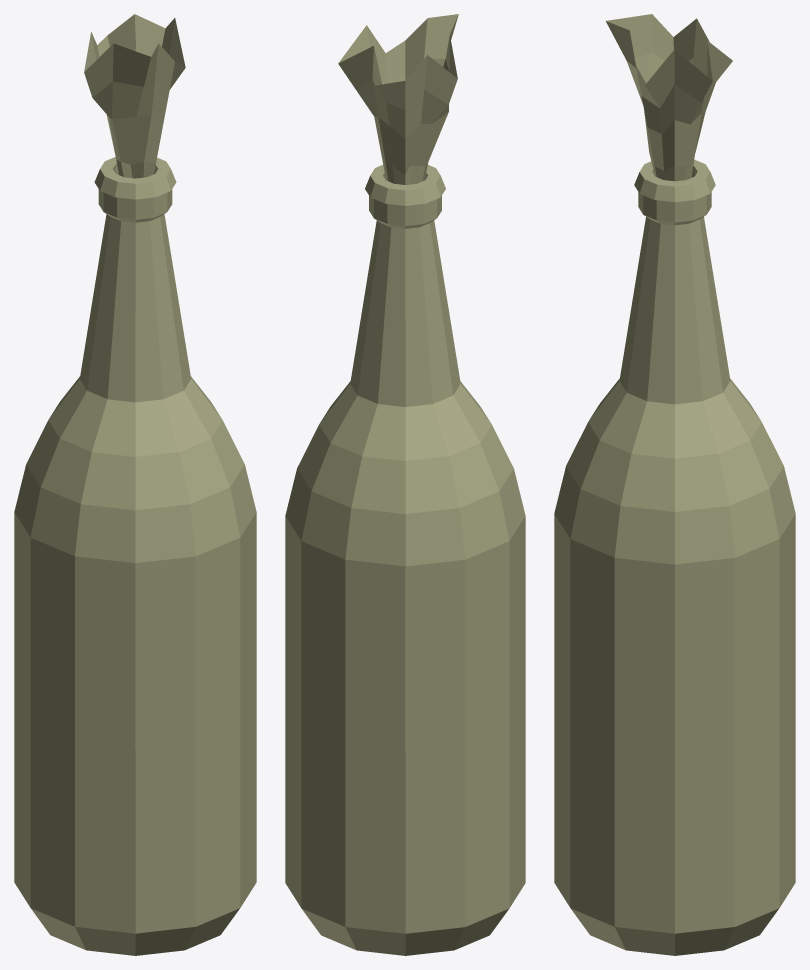
Rendered from molotov_lp.fbx.
3 views of the same model, side by side, from view 1: azimuth 30°, elevation 25°; view 2: azimuth 150°, elevation 25°; view 3: azimuth 270°, elevation 25° (orthographic).
Visible parts, largest first — view 1: Cylinder.003; view 2: Cylinder.003; view 3: Cylinder.003.
Part boxes in pixels (x1=…): Cylinder.003: x1=14, y1=14, x2=256, y2=955; Cylinder.003: x1=285, y1=14, x2=525, y2=955; Cylinder.003: x1=554, y1=14, x2=795, y2=955.
Size of the model in its own units: 1.1 by 4.44 by 1.1.
